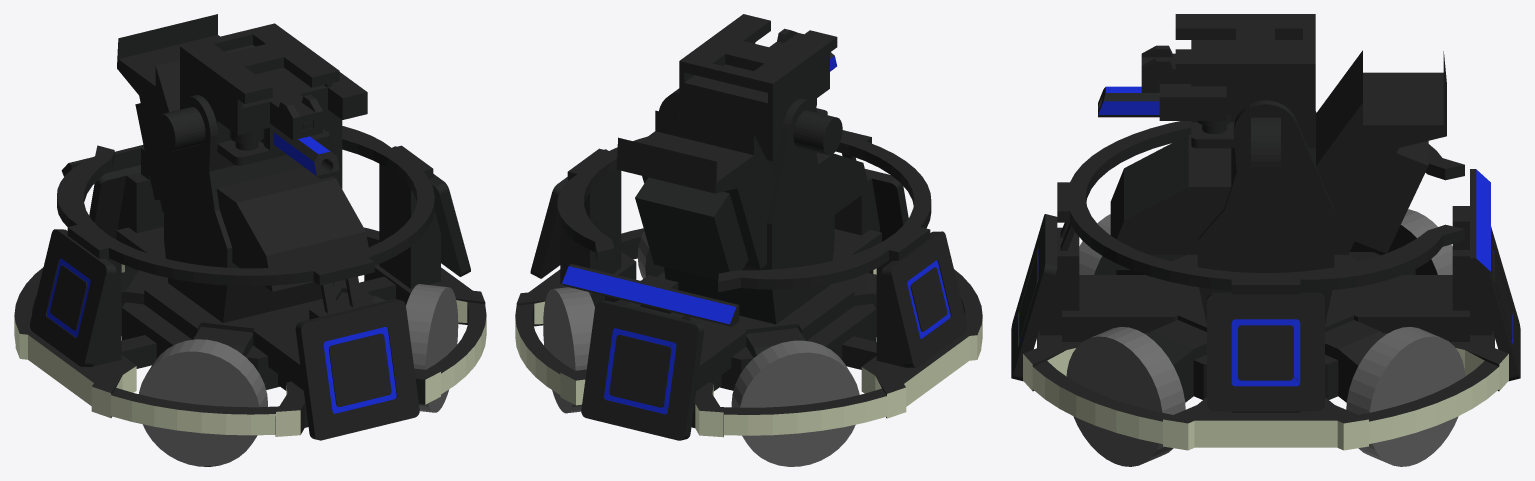
Rendered from Omni-infantry-blue.fbx.
3 renders of one model, left to right at view 1: azimuth 30°, elevation 25°; view 2: azimuth 150°, elevation 25°; view 3: azimuth 270°, elevation 25°, orthographic. The views are drawn at different scales.
Visible parts, largest first — view 1: player; view 2: player; view 3: player.
Boxes of the visible parts, bbox=[...] form: player: bbox=[14, 14, 486, 466]; player: bbox=[515, 14, 982, 466]; player: bbox=[1011, 14, 1520, 466].
Bounding box in the file's own units: 3905 × 3201 × 4093.
